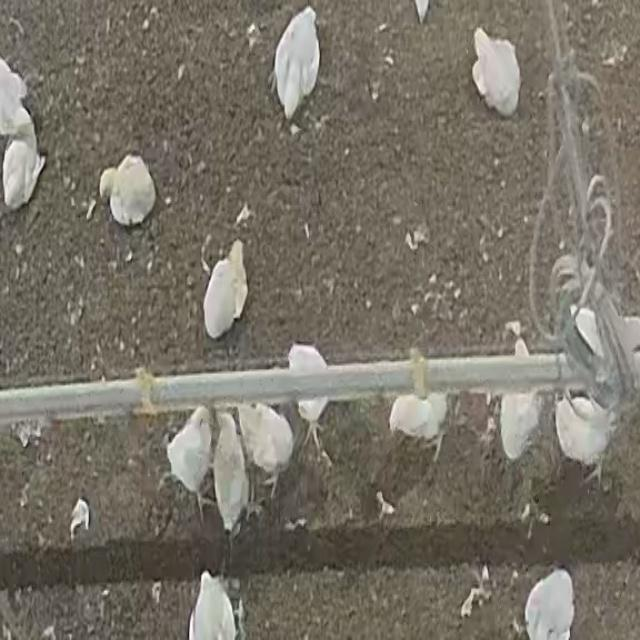chicken: (262, 5, 324, 118), (234, 398, 293, 496), (496, 334, 539, 462), (201, 237, 249, 340), (287, 338, 334, 442), (558, 394, 611, 480), (94, 156, 156, 229), (386, 393, 454, 457), (474, 30, 520, 122)
